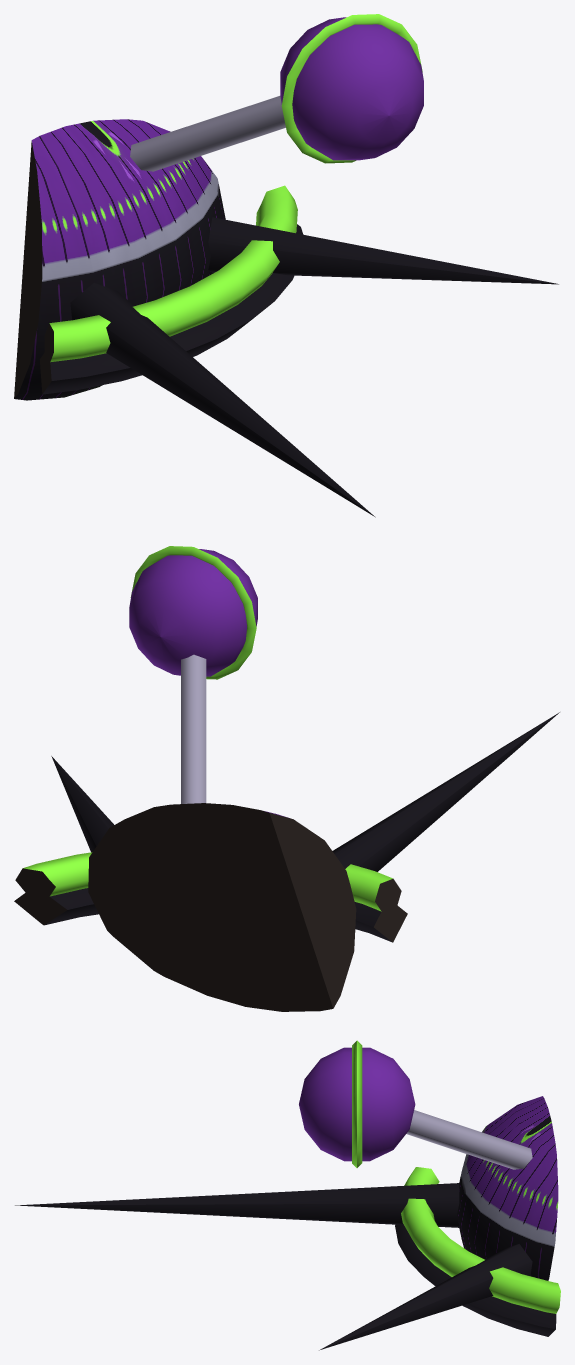
The model's file is dominion_outpost_debris5.obj.
3 renders of one model, top to bottom at view 1: azimuth 30°, elevation 25°; view 2: azimuth 150°, elevation 25°; view 3: azimuth 270°, elevation 25°, orthographic. The views are drawn at different scales.
Parts seen in each view (by area): view 1: hub, spike, pod, glow_ring, ring_frame, strut, pod_band; view 2: hub, pod, spike, glow_ring, strut, ring_frame, pod_band; view 3: spike, hub, pod, glow_ring, strut, ring_frame, pod_band.
Part boxes in pixels (x1,y1,x2,y2): hub: [14, 119, 225, 400]; spike: [70, 217, 558, 517]; pod: [280, 17, 423, 160]; glow_ring: [44, 185, 297, 362]; ring_frame: [39, 224, 303, 394]; strut: [130, 96, 285, 171]; pod_band: [281, 14, 422, 163]; hub: [88, 803, 356, 1011]; pod: [129, 549, 257, 676]; spike: [51, 712, 559, 918]; glow_ring: [15, 852, 401, 912]; strut: [181, 654, 206, 803]; ring_frame: [14, 885, 407, 942]; pod_band: [130, 546, 256, 679]; spike: [15, 1183, 532, 1350]; hub: [457, 1096, 558, 1280]; pod: [299, 1047, 415, 1161]; glow_ring: [401, 1167, 560, 1313]; strut: [406, 1110, 532, 1169]; ring_frame: [395, 1224, 556, 1336]; pod_band: [352, 1040, 362, 1167].
Bounding box in the file's own units: 63.81 × 54.43 × 84.42.
6 materials, 1 textured.
